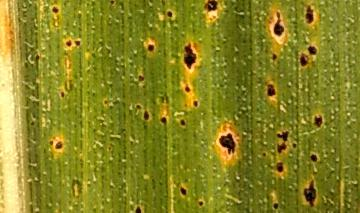tarspot: (180, 40, 200, 72), (217, 131, 239, 158), (303, 180, 318, 211), (270, 11, 286, 39), (302, 4, 316, 27), (264, 80, 279, 100), (273, 129, 293, 143), (310, 113, 325, 129), (273, 159, 286, 176), (298, 52, 309, 70), (176, 184, 190, 198), (274, 143, 289, 156), (144, 41, 157, 54), (306, 43, 319, 56), (136, 72, 147, 87), (131, 202, 145, 213), (308, 151, 319, 165), (182, 83, 193, 96), (54, 139, 64, 152), (142, 109, 151, 123), (269, 52, 280, 63), (158, 116, 170, 126), (178, 117, 188, 129), (50, 5, 61, 15), (165, 9, 175, 20), (196, 199, 207, 209), (271, 201, 282, 211), (190, 98, 200, 108), (133, 102, 144, 111), (259, 150, 269, 159), (64, 39, 73, 48), (59, 90, 66, 101), (74, 38, 82, 47)
